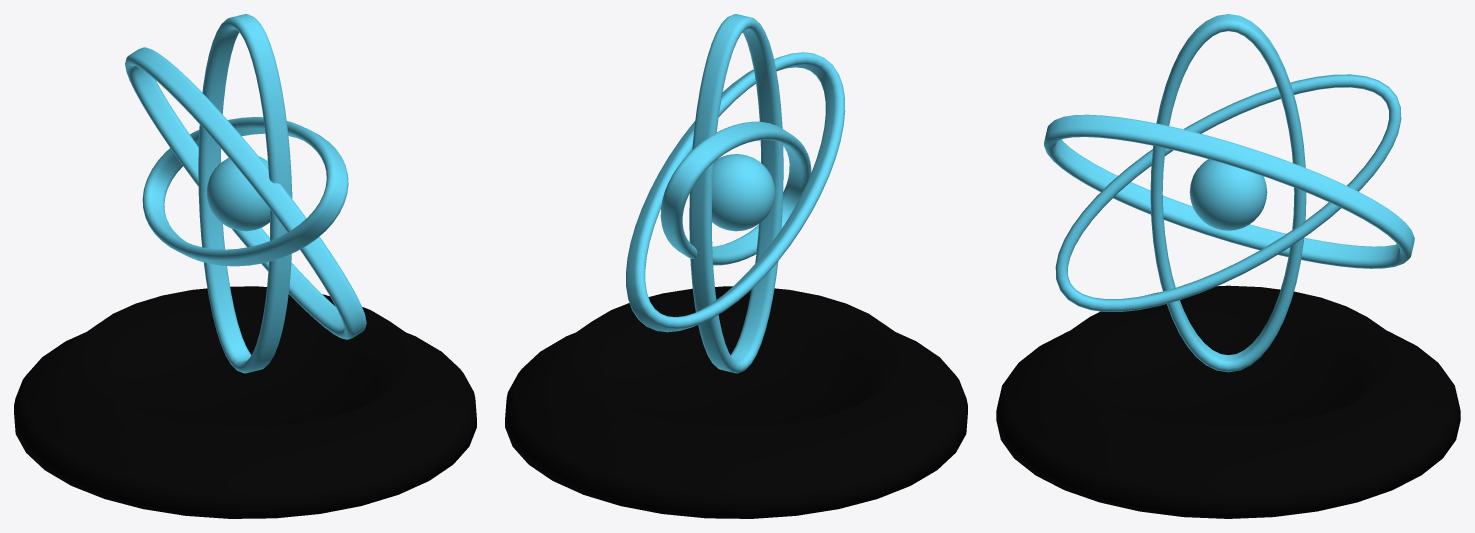
Rendered from react.glb.
3 views of the same model, side by side, from view 1: azimuth 30°, elevation 25°; view 2: azimuth 150°, elevation 25°; view 3: azimuth 270°, elevation 25° (orthographic).
Parts seen in each view (by area): view 1: Circle, Curve.001, Curve.002, Curve.003, Sphere; view 2: Circle, Curve.001, Curve.003, Curve.002, Sphere; view 3: Circle, Curve.003, Curve.001, Curve.002, Sphere.
Part boxes in pixels (bbox=[...]): Circle: bbox=[14, 286, 476, 518]; Curve.001: bbox=[198, 14, 292, 373]; Curve.002: bbox=[125, 47, 366, 339]; Curve.003: bbox=[142, 117, 348, 266]; Sphere: bbox=[207, 156, 269, 231]; Circle: bbox=[505, 286, 967, 518]; Curve.001: bbox=[689, 14, 783, 373]; Curve.003: bbox=[626, 52, 845, 332]; Curve.002: bbox=[660, 121, 811, 265]; Sphere: bbox=[712, 154, 774, 231]; Circle: bbox=[996, 285, 1460, 518]; Curve.003: bbox=[1044, 114, 1414, 268]; Curve.001: bbox=[1150, 14, 1306, 372]; Curve.002: bbox=[1055, 74, 1401, 311]; Sphere: bbox=[1189, 159, 1267, 230].
Size of the model in its own units: 2.4 by 2.3 by 2.4.
